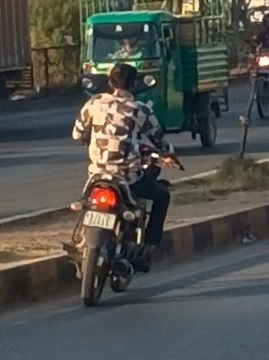BikeWithRider: (54, 57, 189, 310)
NoHelmet: (102, 58, 143, 101)
